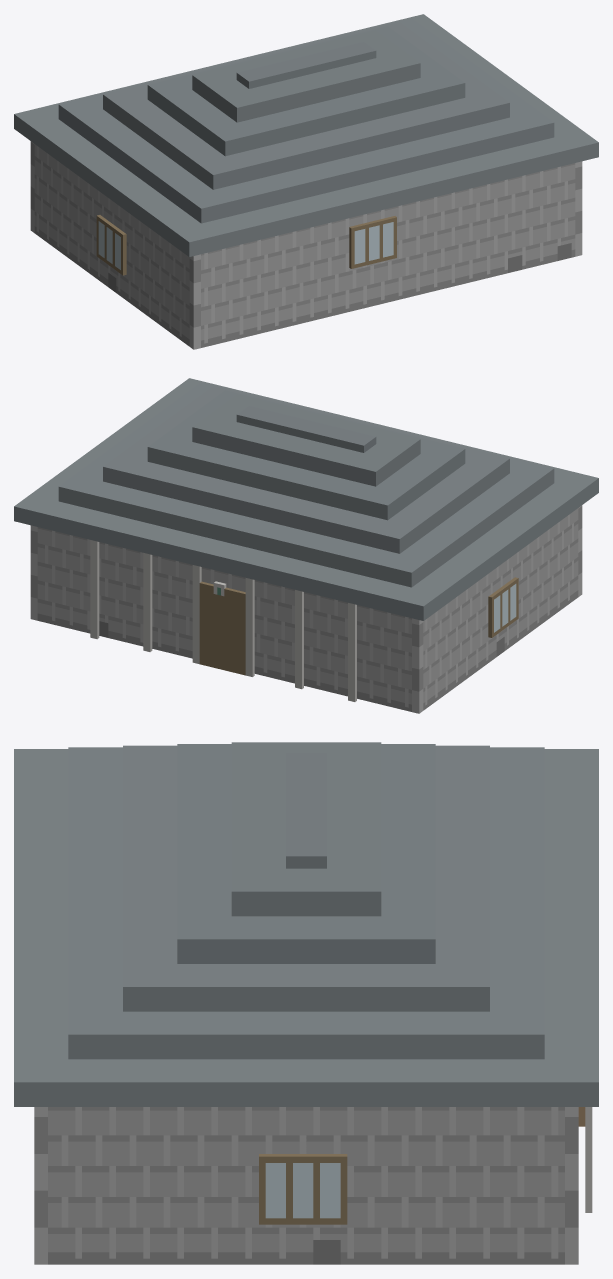
File: banos_publicos_01.glb
The picture shows the model from 3 angles, top to bottom: view 1: azimuth 30°, elevation 25°; view 2: azimuth 150°, elevation 25°; view 3: azimuth 270°, elevation 25°; orthographic projection. The views are drawn at different scales.
Visible parts, largest first — view 1: banos_publicos_01; view 2: banos_publicos_01; view 3: banos_publicos_01.
Boxes of the visible parts, box(x1,y1,x2,y2) form: banos_publicos_01: box(14, 14, 598, 349); banos_publicos_01: box(14, 378, 598, 713); banos_publicos_01: box(14, 742, 598, 1264).
Bounding box in the file's own units: 11.6 × 4.9 × 8.6.
